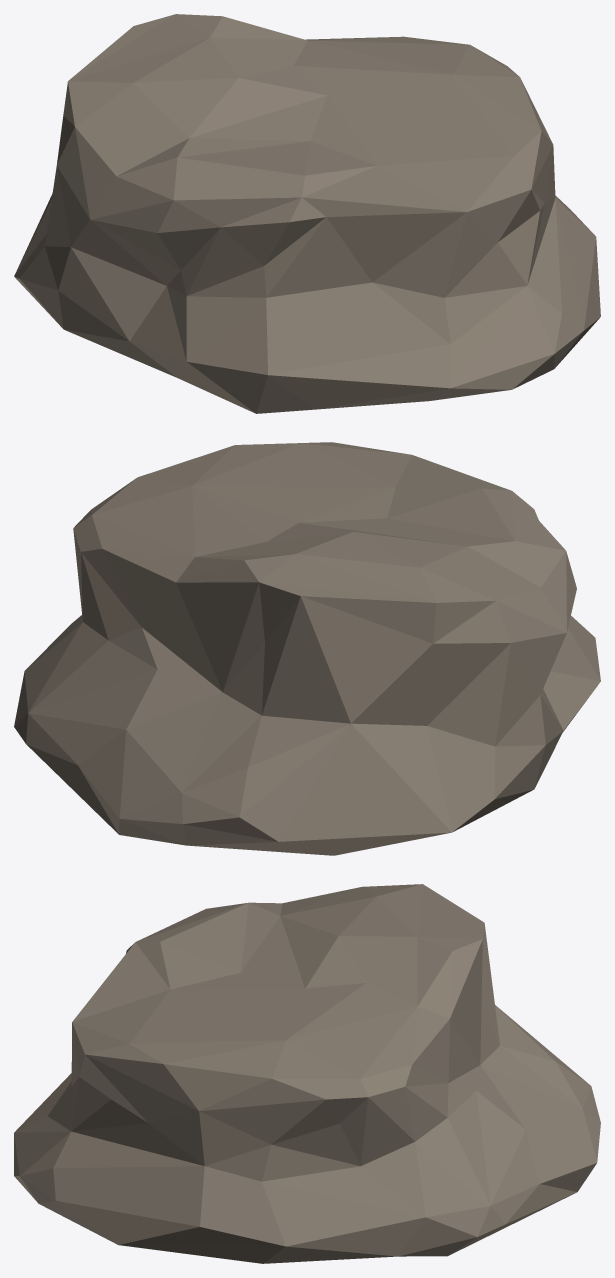
The model's file is SM_Env_Rock_04.glb.
3 renders of one model, top to bottom at view 1: azimuth 30°, elevation 25°; view 2: azimuth 150°, elevation 25°; view 3: azimuth 270°, elevation 25°, orthographic. The views are drawn at different scales.
Parts seen in each view (by area): view 1: SM_Env_Rock_04; view 2: SM_Env_Rock_04; view 3: SM_Env_Rock_04.
Part boxes in pixels (x1,y1,x2,y2): SM_Env_Rock_04: [14, 14, 600, 413]; SM_Env_Rock_04: [14, 442, 600, 855]; SM_Env_Rock_04: [14, 884, 600, 1263].
Bounding box in the file's own units: 4.13 × 1.99 × 4.62.
Materials: 1 (1 with a texture image).
